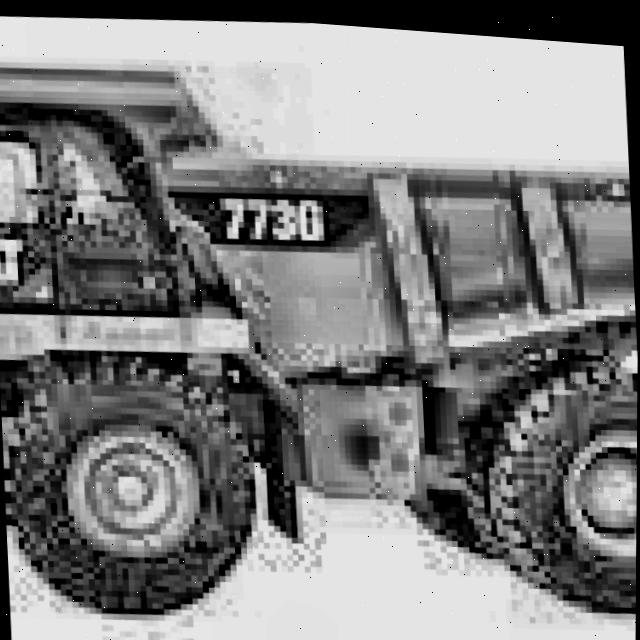dump_truck: (0, 18, 640, 640)
